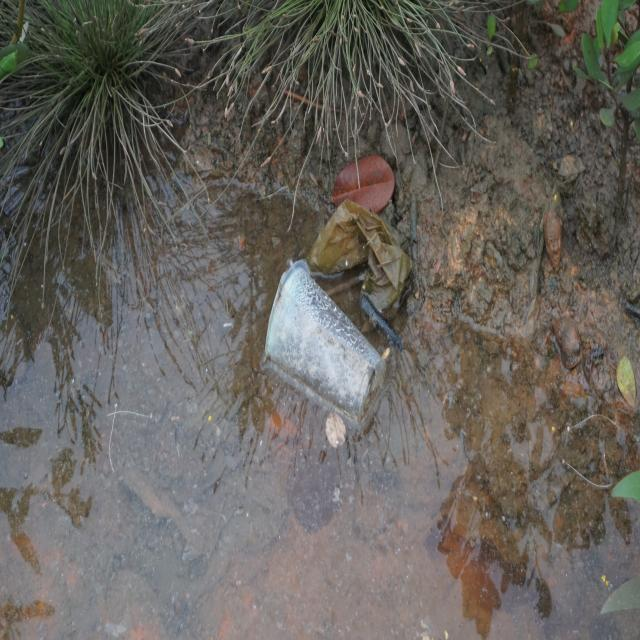Bungkus Minuman: (262, 251, 392, 431)
